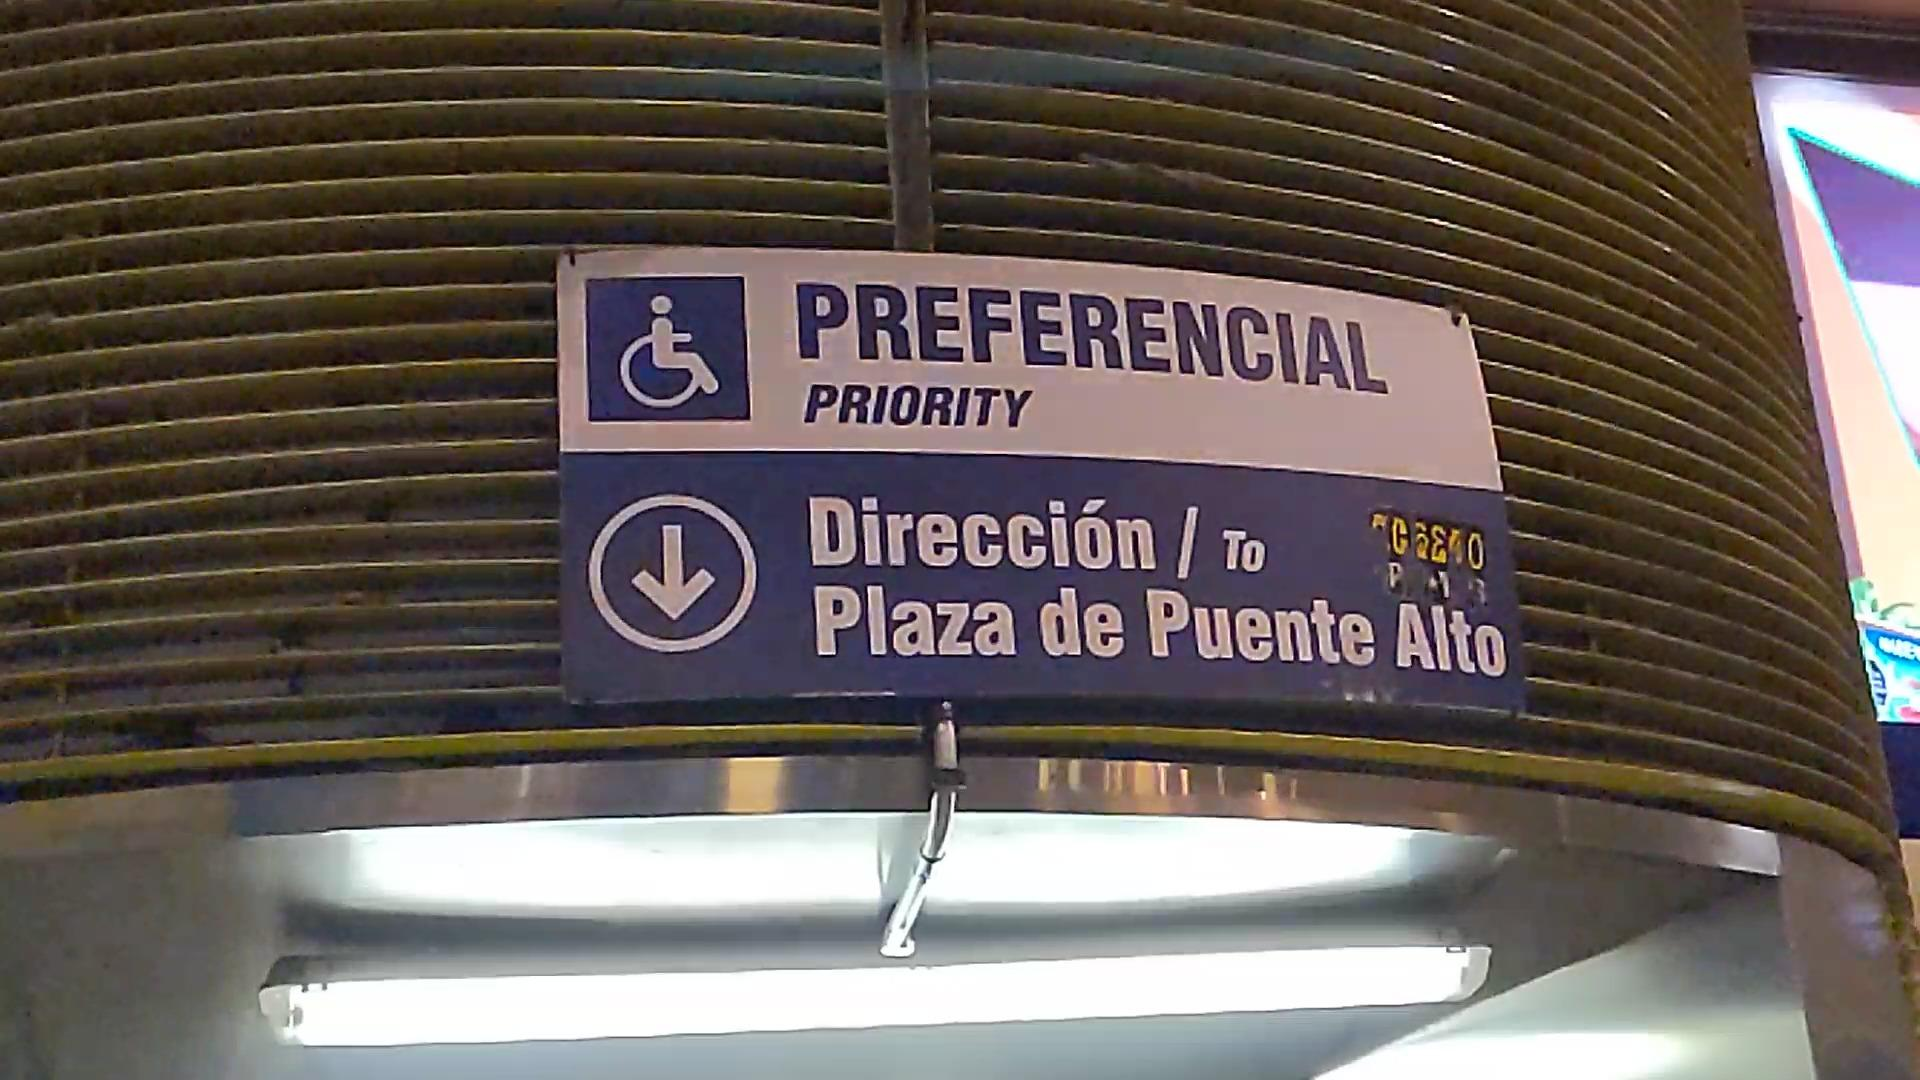down arrow: (634, 518, 719, 625)
handicapped symbol: (617, 289, 723, 411)
